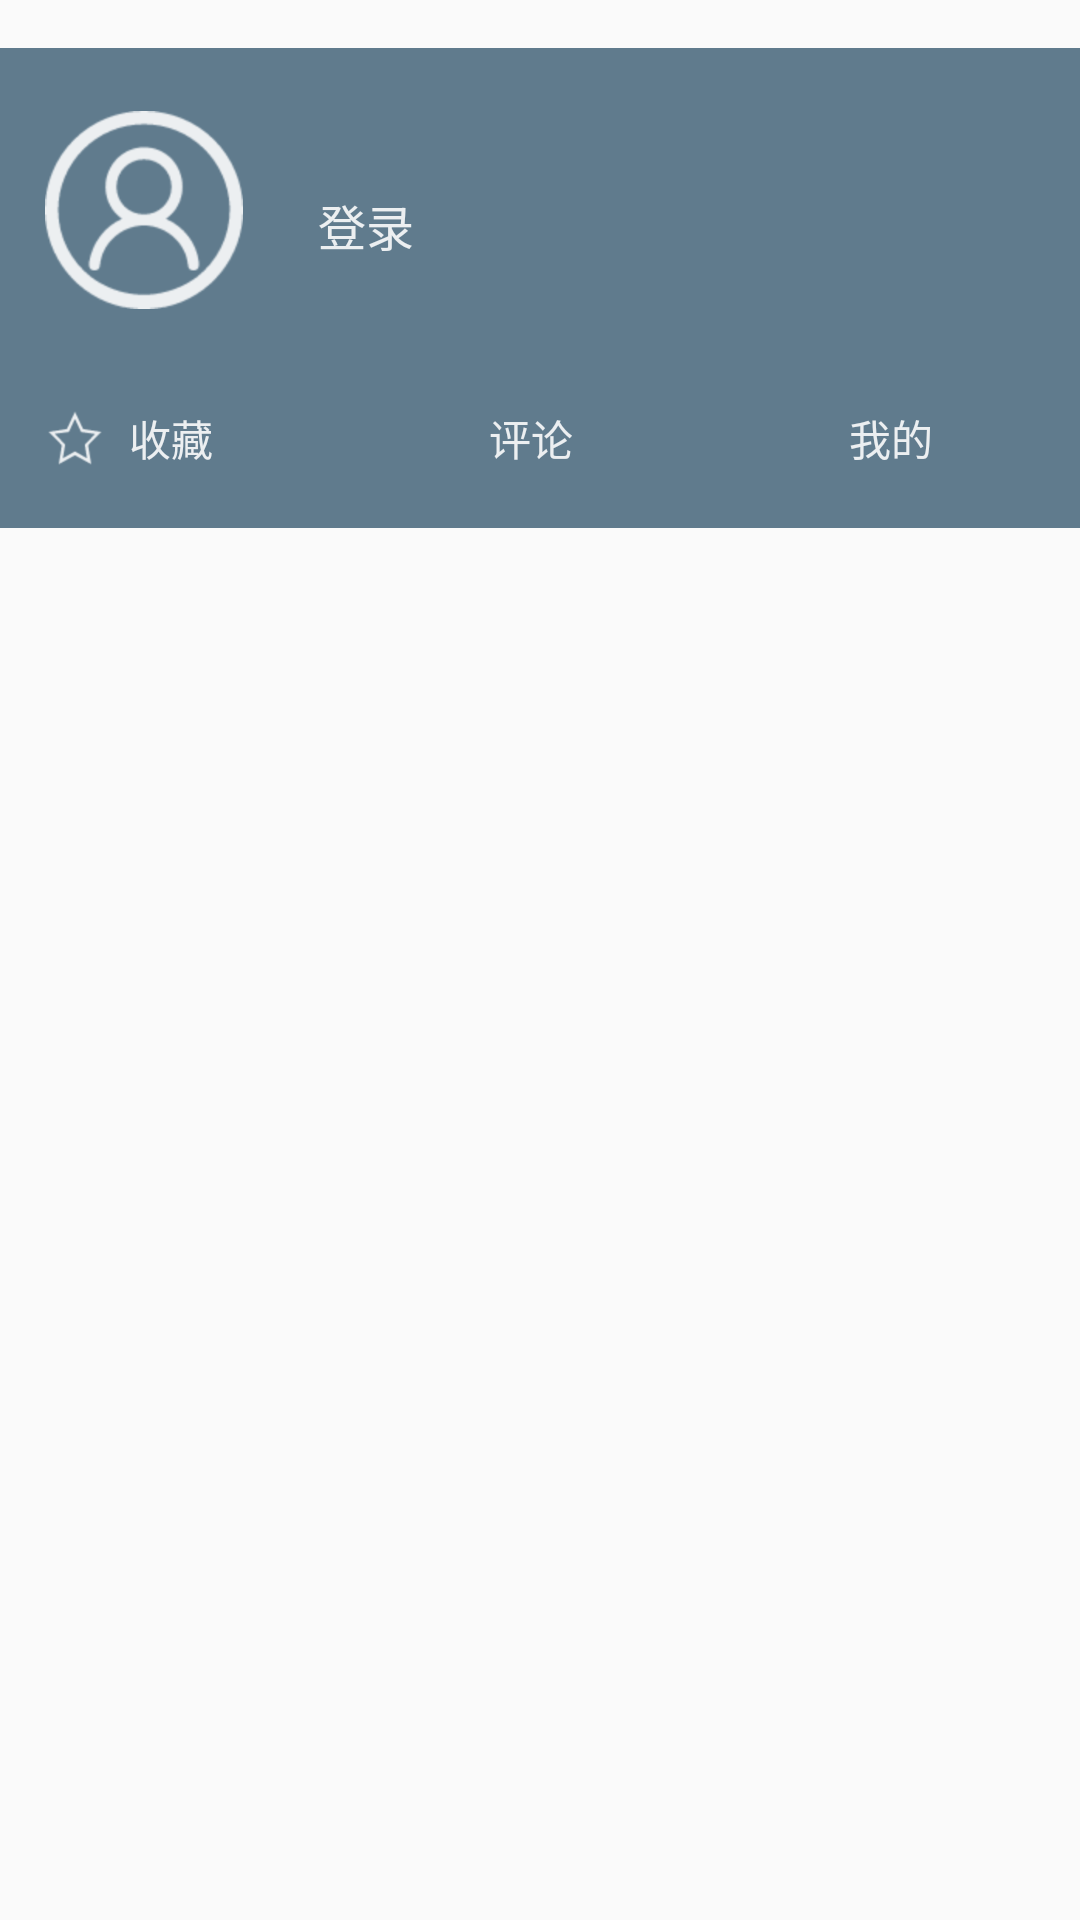

Named icons in this screenshot (1080*1920) and their bounding boxes, box=[x1, y1, x2, y2]:
login: box=[45, 111, 243, 309]
